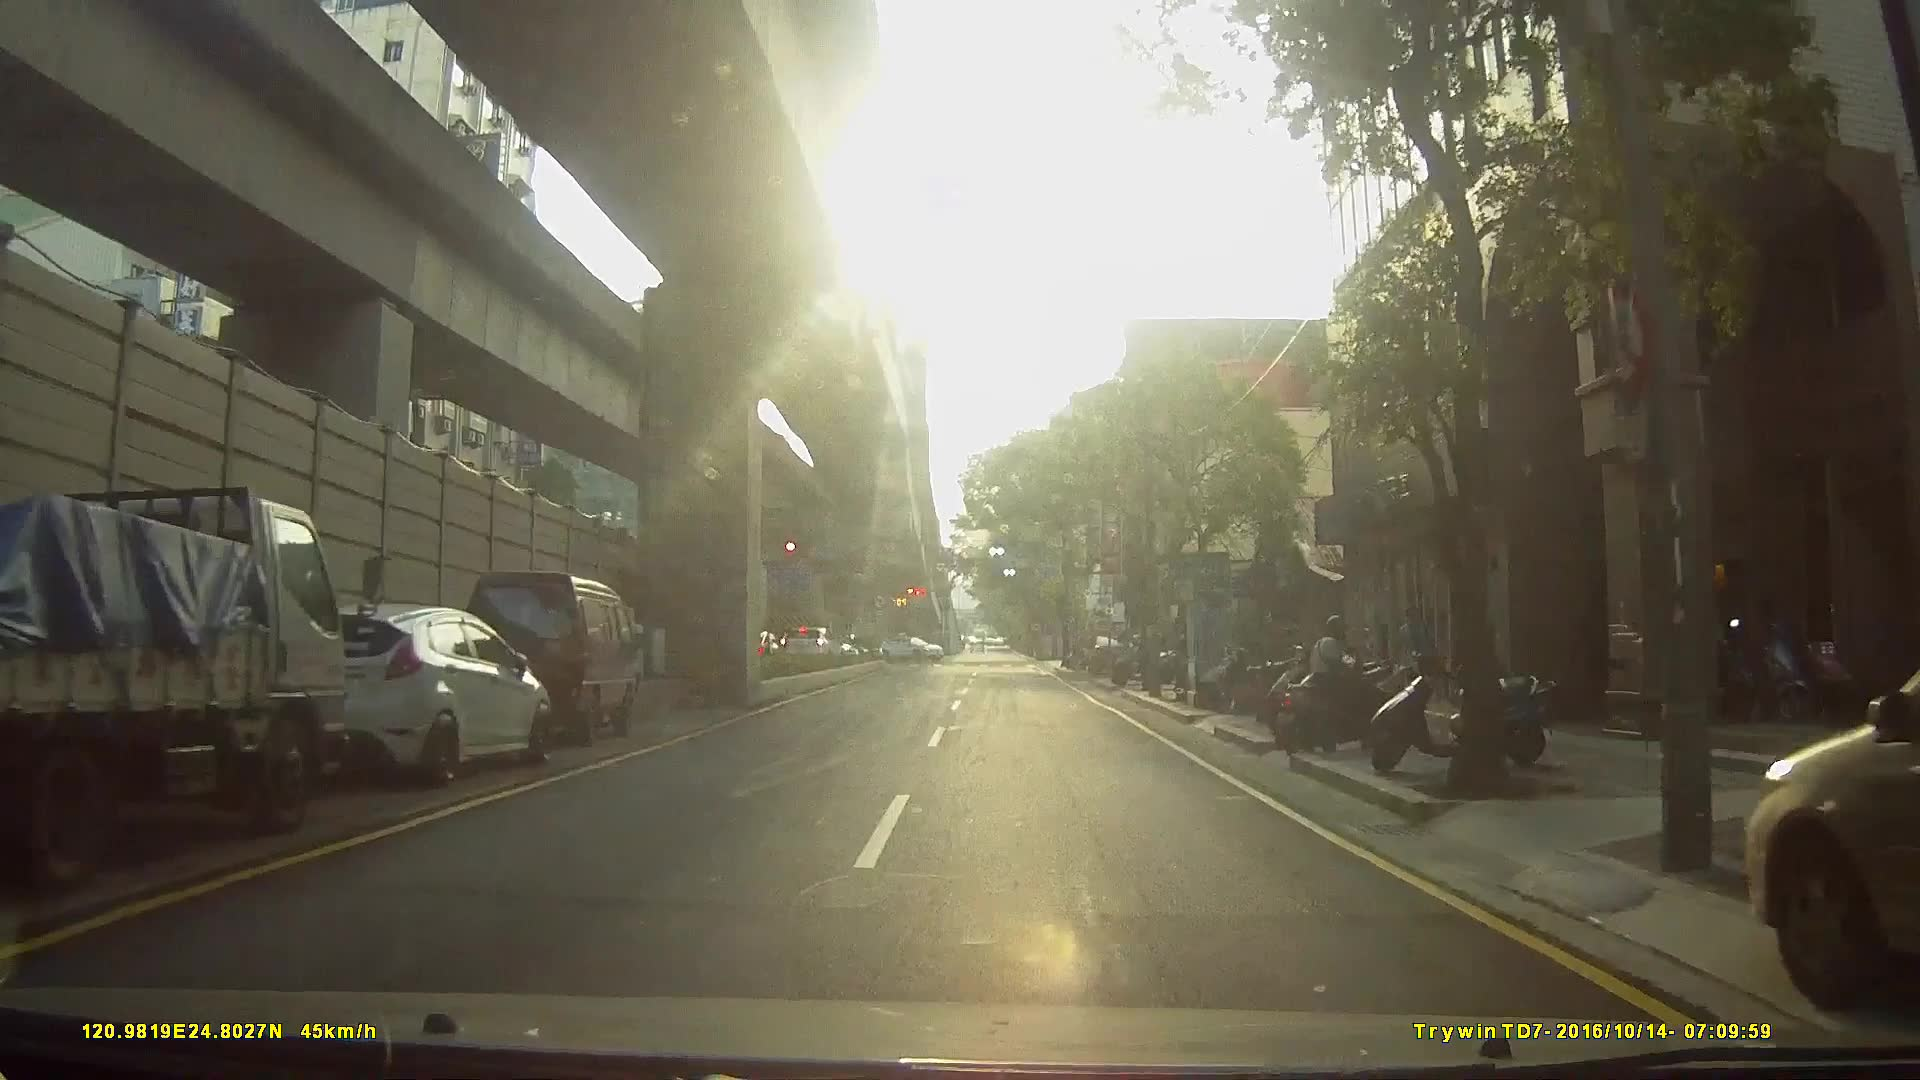rider: (1273, 608, 1412, 751)
vehicle: (1, 465, 401, 862), (1735, 665, 1920, 1031), (249, 585, 559, 793), (448, 563, 644, 744), (777, 623, 843, 665), (1078, 634, 1126, 675), (877, 634, 941, 661)
